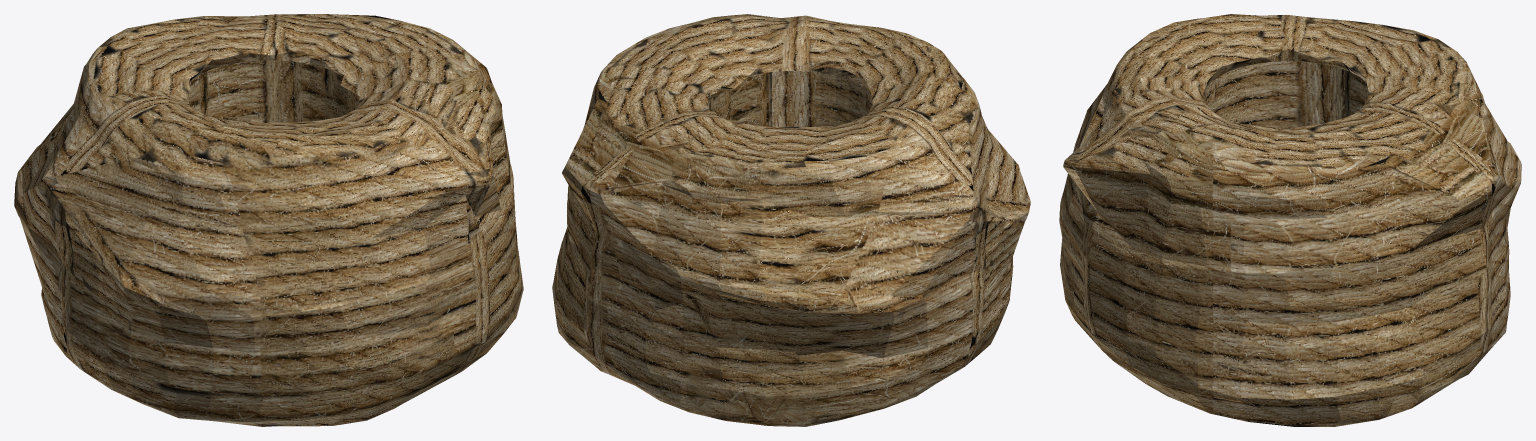
Rendered from Rope_Sail.glb.
3 views of the same model, side by side, from view 1: azimuth 30°, elevation 25°; view 2: azimuth 150°, elevation 25°; view 3: azimuth 270°, elevation 25° (orthographic). The views are drawn at different scales.
Parts seen in each view (by area): view 1: rope; view 2: rope; view 3: rope.
Part boxes in pixels (x1=…): rope: x1=14, y1=14, x2=523, y2=426; rope: x1=552, y1=14, x2=1030, y2=426; rope: x1=1059, y1=14, x2=1521, y2=426.
Bounding box in the file's own units: 1.23 × 0.7629 × 1.19.
1 material, 1 textured.
